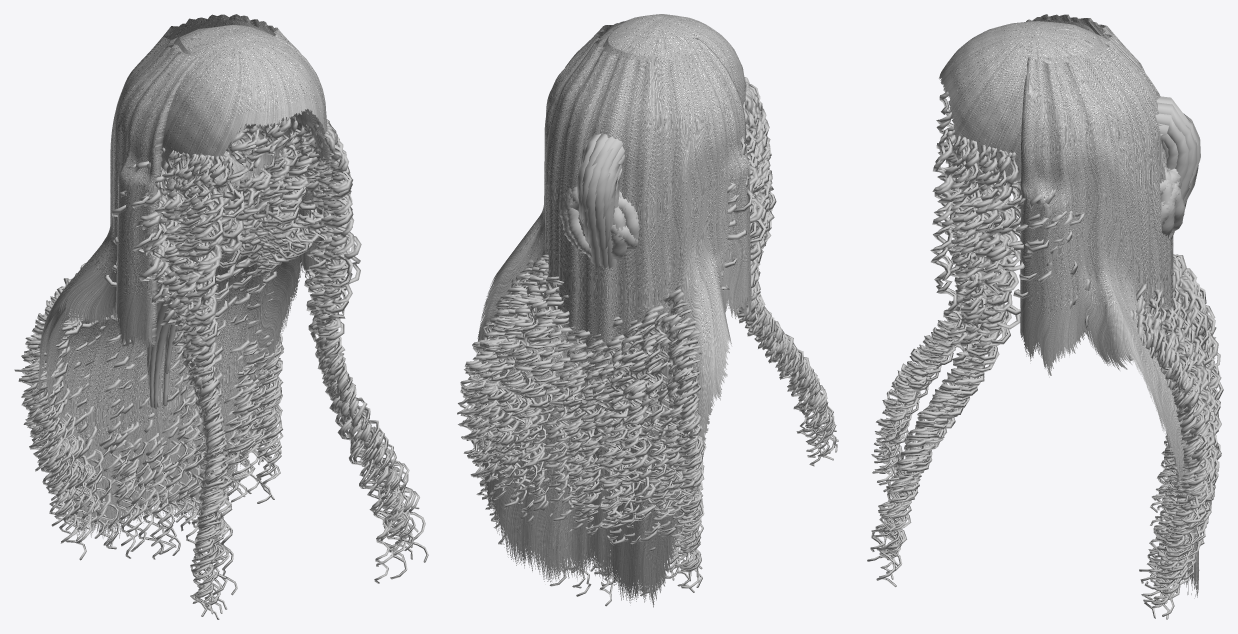
The model's file is NC_Head_Female_Hair2.fbx.
3 renders of one model, left to right at view 1: azimuth 30°, elevation 25°; view 2: azimuth 150°, elevation 25°; view 3: azimuth 270°, elevation 25°, orthographic. The views are drawn at different scales.
Parts seen in each view (by area): view 1: Hair_LongStraight_2, Hair_LongCurls_Cap_5, Hair_LongCurls_Cap_2, Hair_LongCurls_Cap_3, Hair_LongStraight, Hair_LongCurls_Cap_9, Hair_LongCurls_Cap_4, Hair_LongCurls_Cap_10, Hair_LongCurls_Cap_6, Hair_LongCurls_Cap_7, Hair_LongCurls_Cap_8, Hair_Ponytail (+2 smaller); view 2: Hair_LongStraight_2, Hair_LongCurls_Cap_5, Hair_LongCurls_Cap_2, Hair_LongCurls_Cap_9, Hair_LongCurls_Cap_6, Hair_LongCurls_Cap_7, Hair_LongCurls_Cap_4, Hair_LongCurls_Cap_3, Hair_LongCurls_Cap_8, Hair_Ponytail, Hair_LongCurls_Cap_10, Hair_LongStraight (+2 smaller); view 3: Hair_LongStraight_2, Hair_LongStraight, Hair_LongCurls_Cap_9, Hair_LongCurls_Cap_7, Hair_LongCurls_Cap_2, Hair_LongCurls_Cap_5, Hair_LongCurls_Cap_3, Hair_LongCurls_Cap_10, Hair_LongCurls_Cap_4, Hair_LongCurls_Cap_8, Hair_LongCurls_Cap_6, Hair_Ponytail (+2 smaller).
Boxes of the visible parts, bbox=[...] form: Hair_LongStraight_2: bbox=[38, 14, 327, 542]; Hair_LongCurls_Cap_5: bbox=[18, 126, 412, 616]; Hair_LongCurls_Cap_2: bbox=[52, 119, 412, 599]; Hair_LongCurls_Cap_3: bbox=[22, 120, 419, 605]; Hair_LongStraight: bbox=[161, 25, 326, 200]; Hair_LongCurls_Cap_9: bbox=[21, 109, 428, 613]; Hair_LongCurls_Cap_4: bbox=[14, 121, 407, 619]; Hair_LongCurls_Cap_10: bbox=[25, 113, 412, 614]; Hair_LongCurls_Cap_6: bbox=[31, 117, 318, 603]; Hair_LongCurls_Cap_7: bbox=[21, 122, 419, 563]; Hair_LongCurls_Cap_8: bbox=[32, 123, 415, 555]; Hair_Ponytail: bbox=[146, 27, 288, 413]; Hair_LongStraight_2: bbox=[476, 21, 751, 607]; Hair_LongCurls_Cap_5: bbox=[458, 82, 838, 596]; Hair_LongCurls_Cap_2: bbox=[471, 77, 834, 592]; Hair_LongCurls_Cap_9: bbox=[466, 79, 831, 592]; Hair_LongCurls_Cap_6: bbox=[457, 90, 837, 574]; Hair_LongCurls_Cap_7: bbox=[460, 128, 811, 571]; Hair_LongCurls_Cap_4: bbox=[470, 96, 832, 606]; Hair_LongCurls_Cap_3: bbox=[475, 84, 836, 596]; Hair_LongCurls_Cap_8: bbox=[474, 88, 776, 584]; Hair_Ponytail: bbox=[577, 15, 698, 412]; Hair_LongCurls_Cap_10: bbox=[460, 95, 836, 592]; Hair_LongStraight: bbox=[577, 14, 747, 123]; Hair_LongStraight_2: bbox=[1020, 14, 1199, 598]; Hair_LongStraight: bbox=[939, 21, 1129, 188]; Hair_LongCurls_Cap_9: bbox=[867, 88, 1220, 591]; Hair_LongCurls_Cap_7: bbox=[886, 137, 1221, 602]; Hair_LongCurls_Cap_2: bbox=[878, 90, 1218, 619]; Hair_LongCurls_Cap_5: bbox=[871, 109, 1220, 583]; Hair_LongCurls_Cap_3: bbox=[874, 101, 1223, 618]; Hair_LongCurls_Cap_10: bbox=[872, 147, 1214, 616]; Hair_LongCurls_Cap_4: bbox=[874, 119, 1216, 605]; Hair_LongCurls_Cap_8: bbox=[873, 141, 1218, 601]; Hair_LongCurls_Cap_6: bbox=[875, 171, 1220, 593]; Hair_Ponytail: bbox=[939, 21, 1200, 447].
Bounding box in the file's own units: 0.9374 × 1.93 × 1.09.
Materials: 1 (1 with a texture image).
